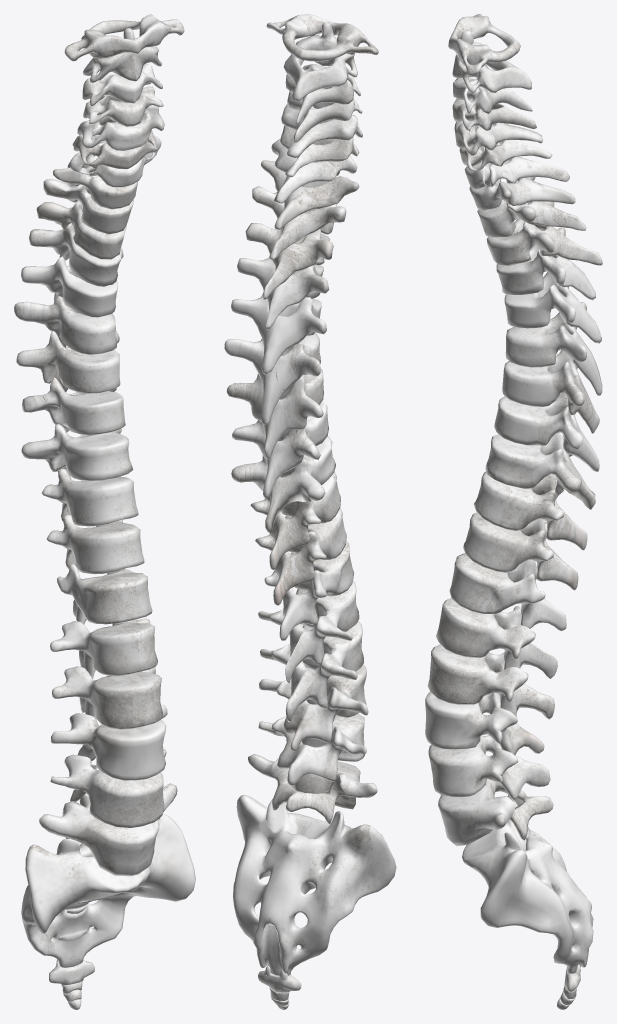
File: bones.glb
3 views of the same model, side by side, from view 1: azimuth 30°, elevation 25°; view 2: azimuth 150°, elevation 25°; view 3: azimuth 270°, elevation 25° (orthographic). The views are drawn at different scales.
Visible parts, largest first — view 1: Sacrum, L5, L3, L2, L4, L1, T9, T12, T11, T7, T10, T8 (+14 smaller); view 2: Sacrum, L5, L4, L2, L3, T7, L1, T9, T5, T6, T11, T12 (+14 smaller); view 3: Sacrum, L2, L1, T12, L4, L3, T11, T10, L5, T9, T8, T7 (+14 smaller).
Boxes of the visible parts, <box> form: Sacrum: <box>21,813,195,967</box>; L5: <box>39,783,177,876</box>; L3: <box>51,705,167,780</box>; L2: <box>52,666,162,729</box>; L4: <box>50,749,166,827</box>; L1: <box>50,618,157,678</box>; T9: <box>21,424,133,480</box>; T12: <box>57,563,152,624</box>; T11: <box>46,514,144,574</box>; T7: <box>16,331,120,393</box>; T10: <box>41,468,138,526</box>; T8: <box>22,377,125,435</box>; Sacrum: <box>233,795,396,975</box>; L5: <box>248,754,377,824</box>; L4: <box>258,713,366,785</box>; L2: <box>260,621,363,722</box>; L3: <box>259,664,368,751</box>; T7: <box>226,369,323,459</box>; L1: <box>258,581,359,682</box>; T9: <box>231,436,335,533</box>; T5: <box>231,292,326,374</box>; T6: <box>224,333,320,425</box>; T11: <box>255,508,346,605</box>; T12: <box>264,541,354,640</box>; Sacrum: <box>462,790,593,973</box>; L2: <box>427,644,554,719</box>; L1: <box>436,598,557,678</box>; T12: <box>449,553,566,630</box>; L4: <box>428,735,550,800</box>; L3: <box>425,691,544,755</box>; T11: <box>463,512,578,590</box>; T10: <box>473,471,587,550</box>; L5: <box>438,778,553,845</box>; T9: <box>485,432,595,509</box>; T8: <box>494,393,599,471</box>; T7: <box>502,350,599,433</box>.
Bounding box in the file's own units: 89.06 × 537 × 88.14.
1 material, 1 textured.
